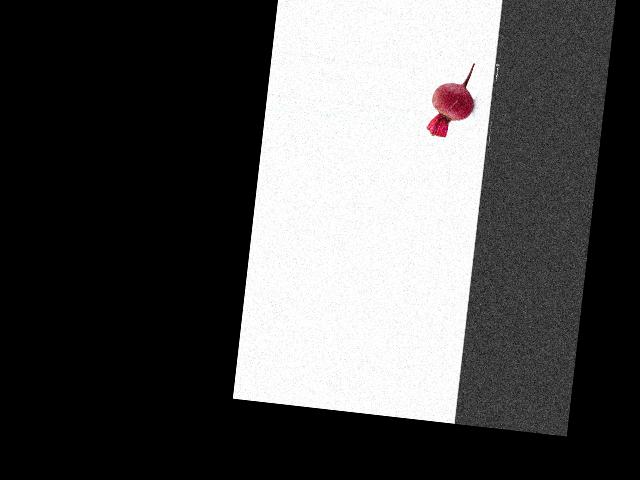beet: (426, 59, 478, 140)
